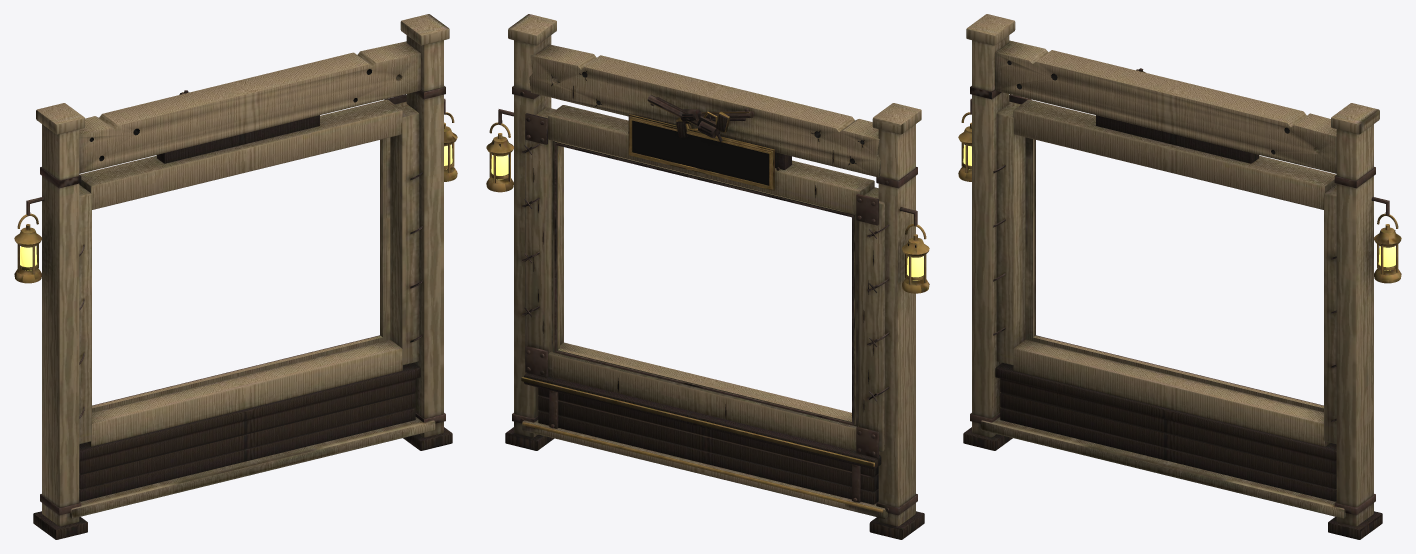
3 renders of one model, left to right at view 1: azimuth 30°, elevation 25°; view 2: azimuth 150°, elevation 25°; view 3: azimuth 330°, elevation 25°, orthographic.
Parts seen in each view (by area): view 1: Bleached_weathered_oak, Scorched_walnut, Rusted_forged_iron, Worn_brass; view 2: Bleached_weathered_oak, Scorched_walnut, Rusted_forged_iron, Worn_brass, Uniform_dark_inset, Lantern_amber_glow; view 3: Bleached_weathered_oak, Scorched_walnut, Rusted_forged_iron, Worn_brass.
Boxes of the visible parts, <box> form: Bleached_weathered_oak: <box>36,14,449,526</box>; Scorched_walnut: <box>33,115,452,539</box>; Rusted_forged_iron: <box>26,86,445,515</box>; Worn_brass: <box>14,92,457,283</box>; Bleached_weathered_oak: <box>508,14,921,526</box>; Scorched_walnut: <box>505,71,924,539</box>; Rusted_forged_iron: <box>498,86,917,515</box>; Worn_brass: <box>486,102,929,512</box>; Uniform_dark_inset: <box>492,71,916,247</box>; Lantern_amber_glow: <box>491,155,923,280</box>; Bleached_weathered_oak: <box>966,14,1379,526</box>; Scorched_walnut: <box>963,115,1382,539</box>; Rusted_forged_iron: <box>970,68,1389,515</box>; Worn_brass: <box>958,69,1401,283</box>.
Bounding box in the file's own units: 10.2 × 9.2 × 1.22.
Materials: 6 (5 with a texture image).
